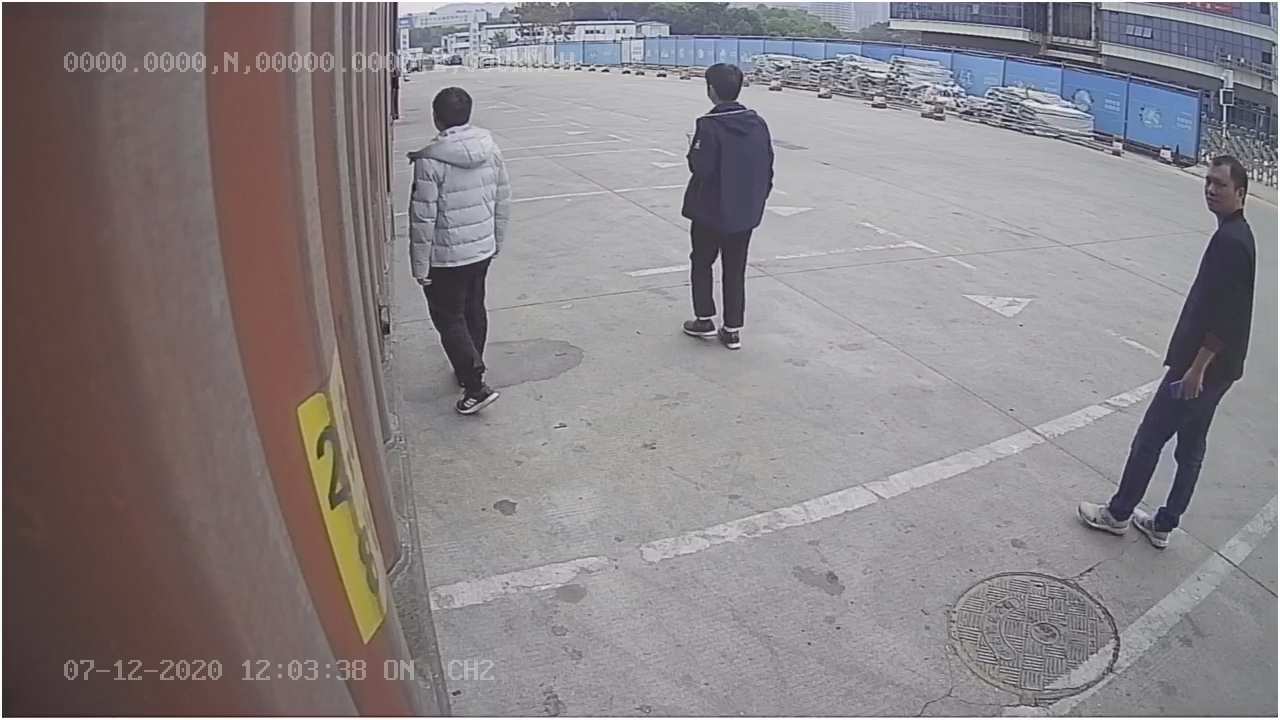person: (1063, 134, 1262, 549), (408, 85, 518, 420), (678, 55, 775, 350)
